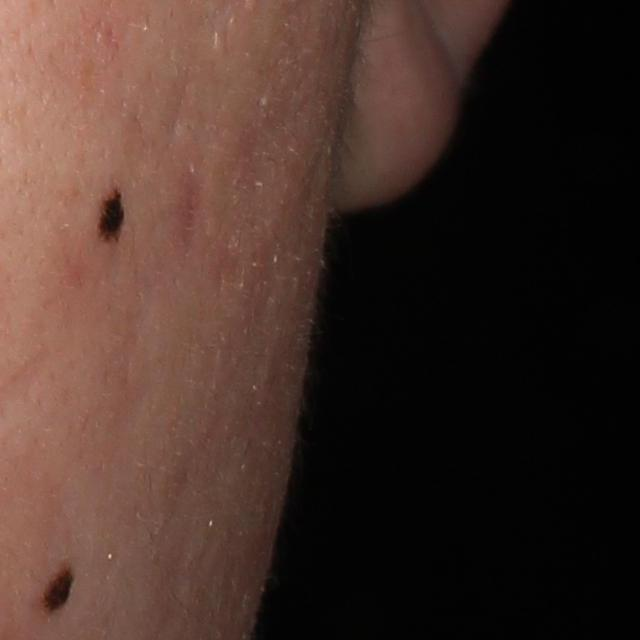nevus: (89, 173, 136, 255), (37, 562, 77, 621)
